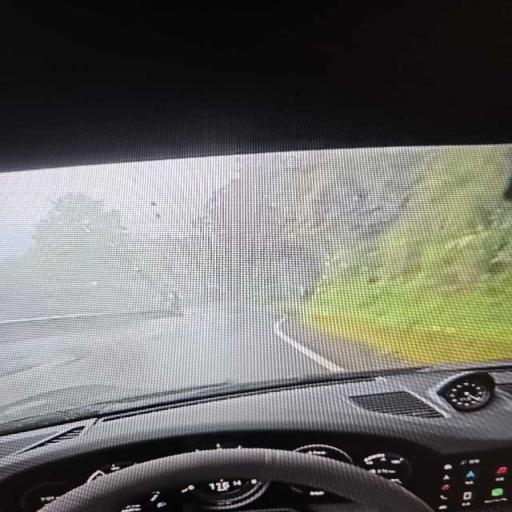car: (0, 146, 511, 511)
lane: (0, 302, 326, 414)
